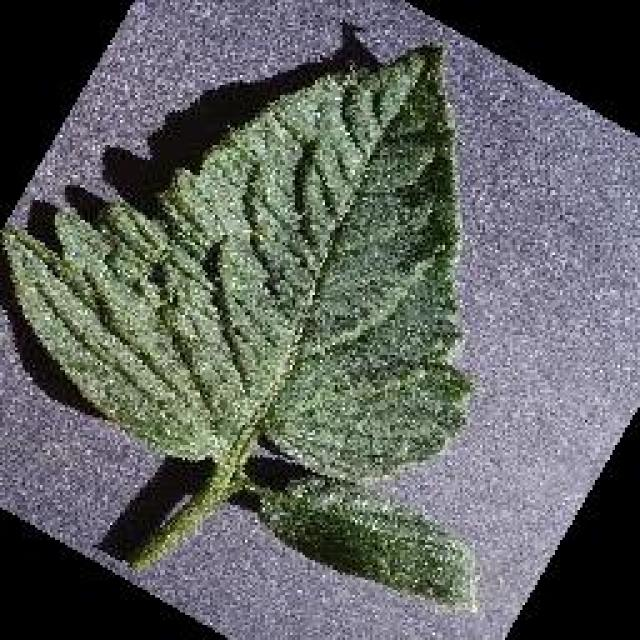Tomato___healthy: (0, 47, 477, 613)
